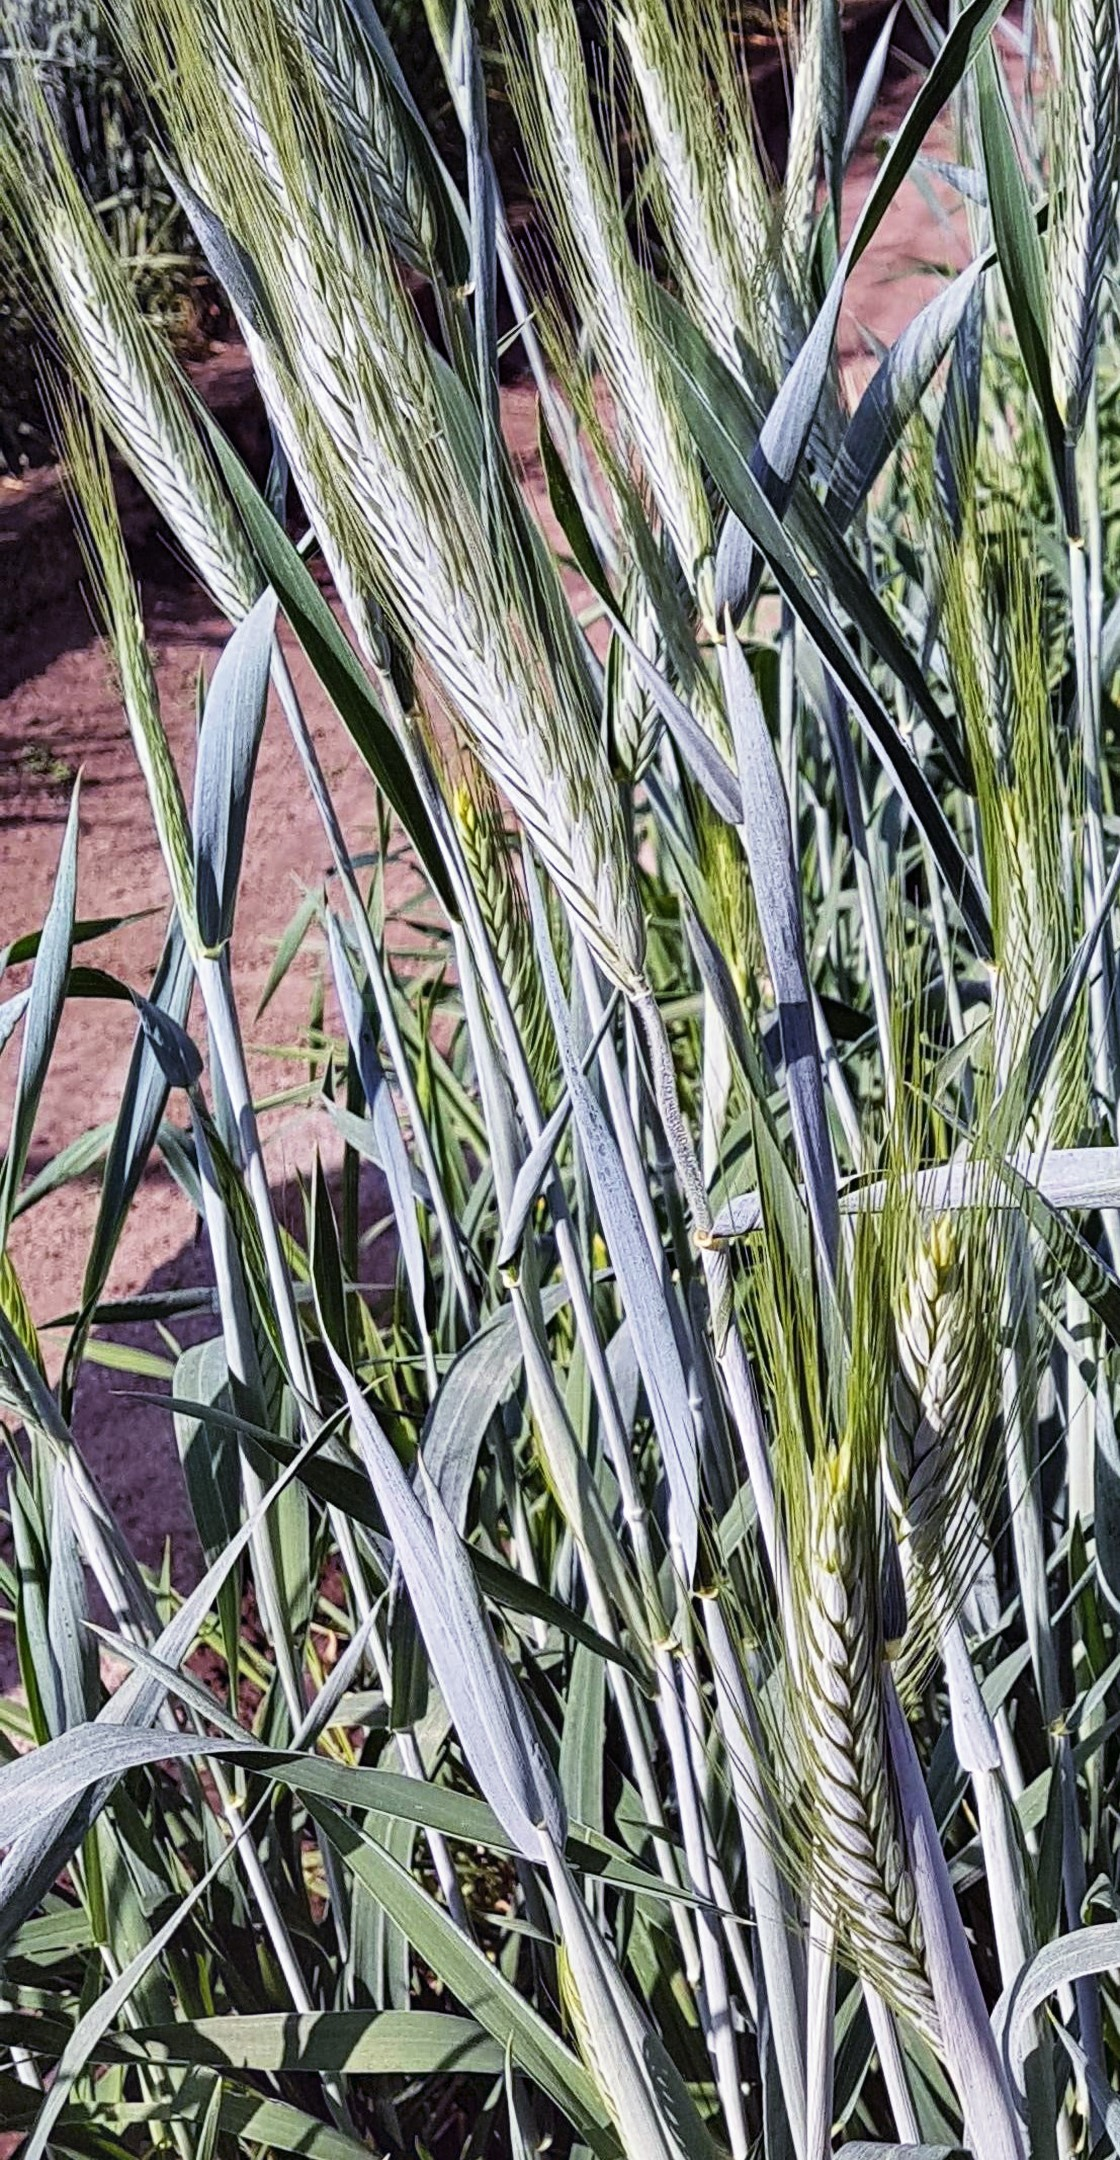Healthy Wheat: (17, 170, 291, 641), (759, 1477, 970, 2039)
